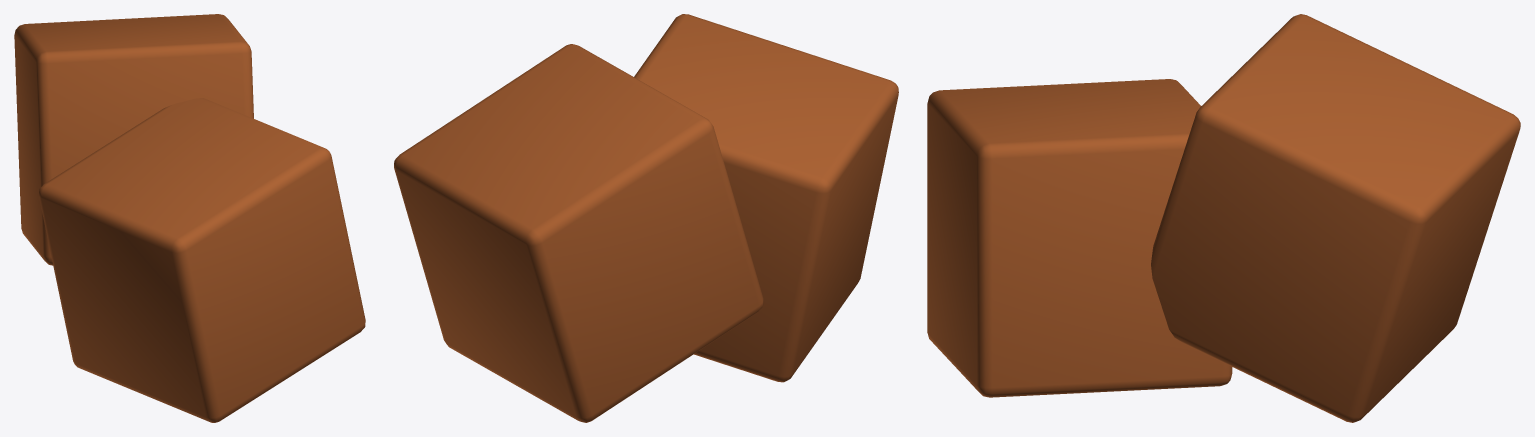
File: caramel.fbx
3 renders of one model, left to right at view 1: azimuth 30°, elevation 25°; view 2: azimuth 150°, elevation 25°; view 3: azimuth 270°, elevation 25°, orthographic. The views are drawn at different scales.
Parts seen in each view (by area): view 1: Cube; view 2: Cube; view 3: Cube.
Part boxes in pixels (box(x1,y1,x2,y2)): Cube: box(14, 14, 365, 422); Cube: box(394, 14, 898, 422); Cube: box(927, 14, 1520, 422).
Size of the model in its own units: 23.58 by 21.15 by 34.72.
